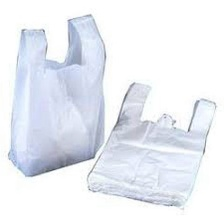plastic_bag: (0, 8, 111, 179), (80, 78, 219, 213)
